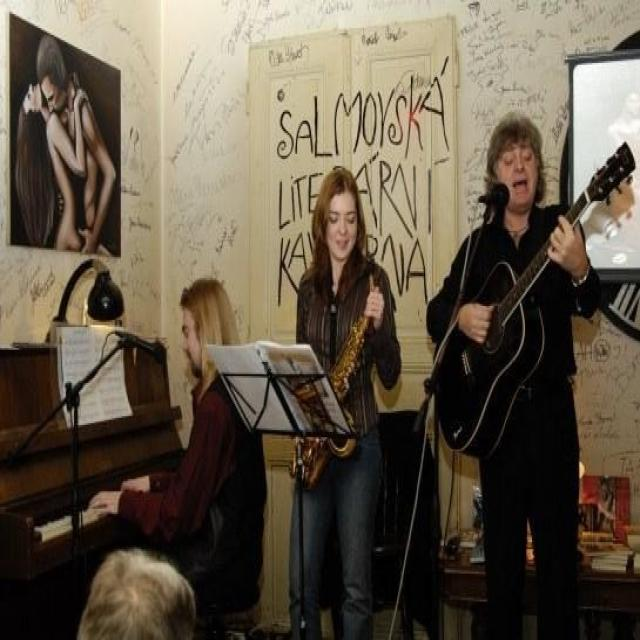guitar: (434, 140, 636, 462)
saxophone: (294, 258, 377, 489)
